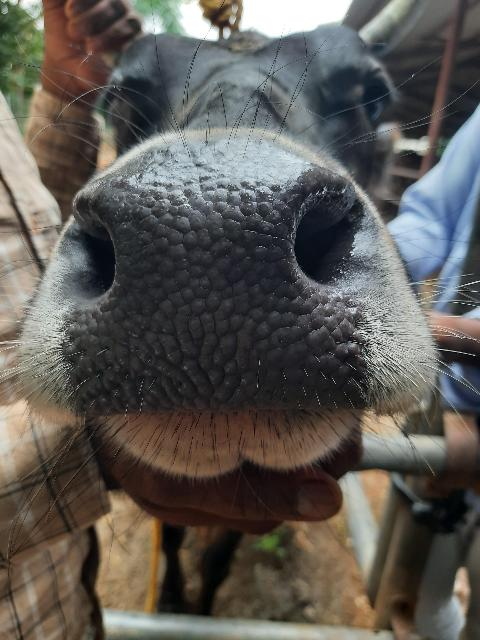Muzzle: (94, 158, 324, 406)
